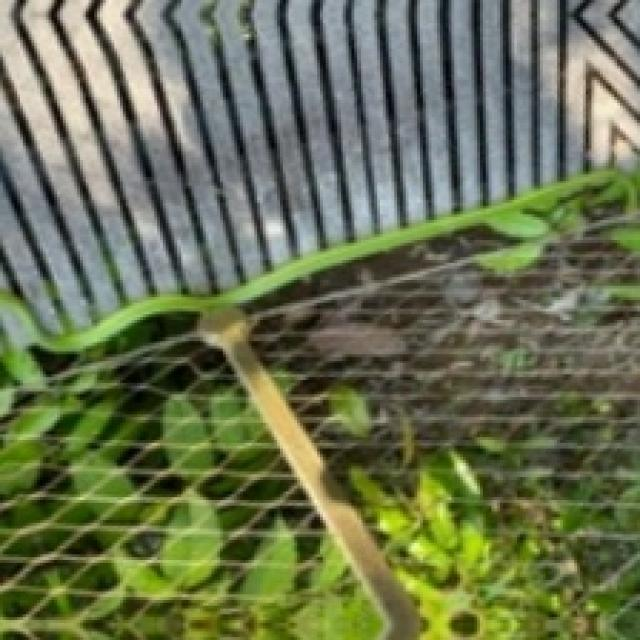red-tailed green ratsnake: (0, 181, 570, 353)
